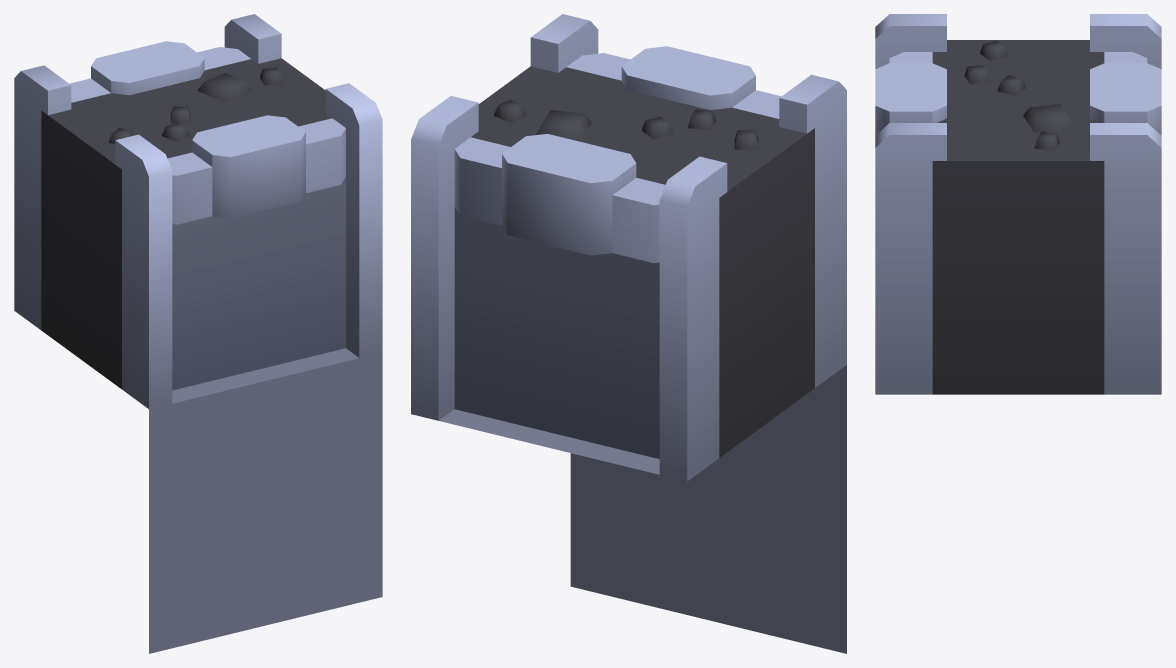
Rendered from wall-narrow-with-vertical-edge-below-4.glb.
3 renders of one model, left to right at view 1: azimuth 30°, elevation 25°; view 2: azimuth 150°, elevation 25°; view 3: azimuth 270°, elevation 25°, orthographic. The views are drawn at different scales.
Visible parts, largest first — view 1: wall-narrow; view 2: wall-narrow; view 3: wall-narrow.
Part boxes in pixels (box(x1,y1,x2,y2)): wall-narrow: box(14, 14, 382, 653); wall-narrow: box(411, 14, 846, 653); wall-narrow: box(875, 14, 1161, 394).
Bounding box in the file's own units: 1 × 2 × 1.
2 materials, 2 textured.
